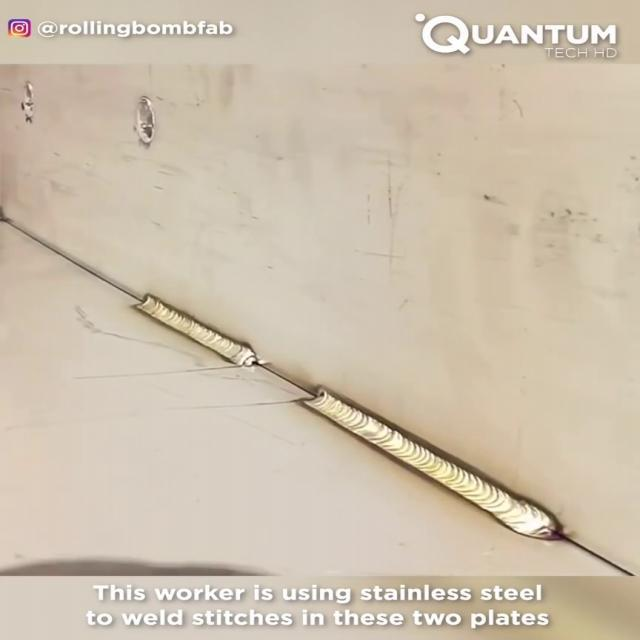Good Welding: (298, 391, 578, 541), (129, 296, 252, 362)
